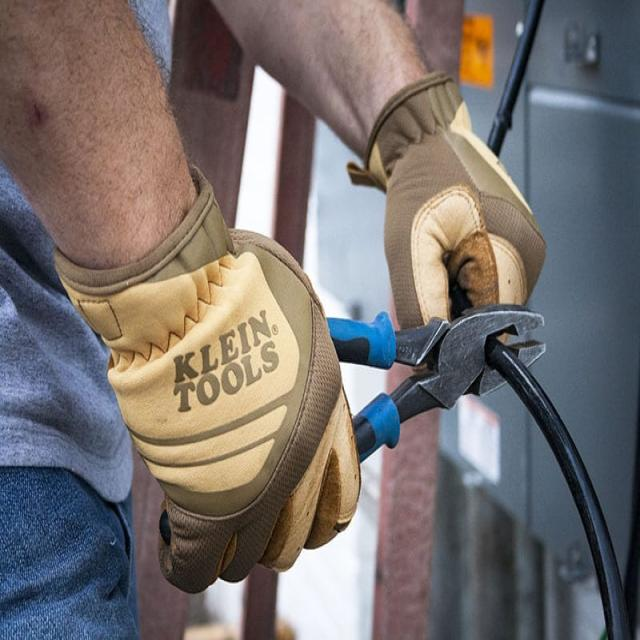gloves: (56, 162, 363, 597), (344, 75, 546, 394)
